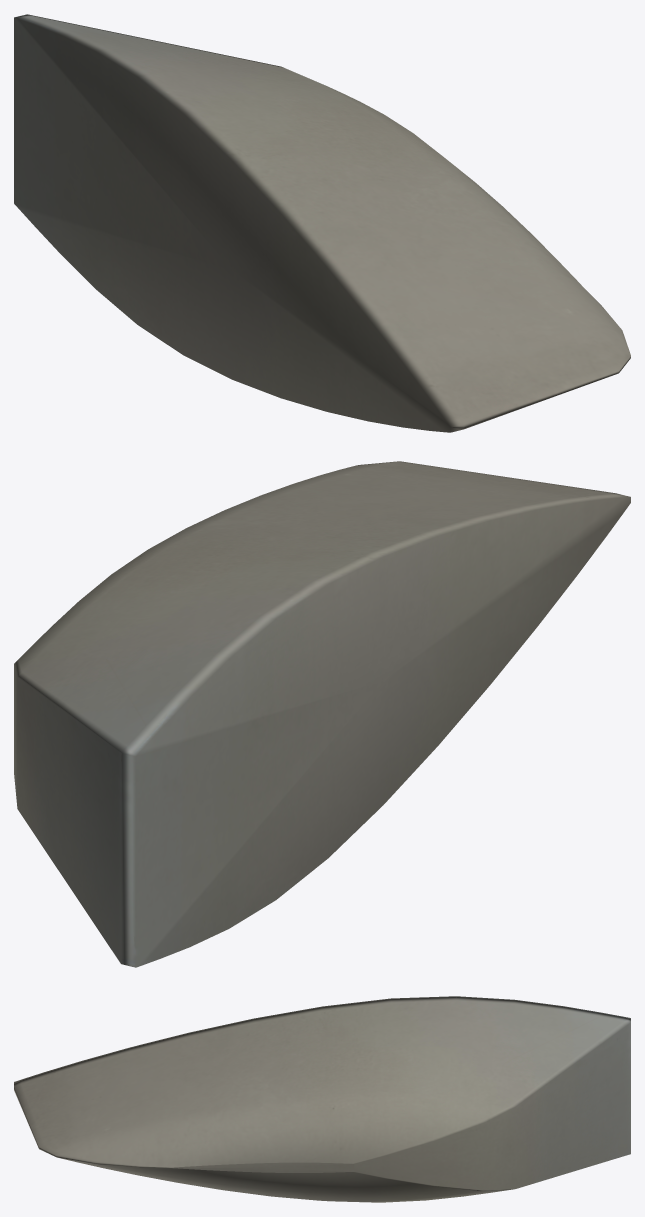
The model's file is SM_Nacelle_G.glb.
3 renders of one model, top to bottom at view 1: azimuth 30°, elevation 25°; view 2: azimuth 150°, elevation 25°; view 3: azimuth 270°, elevation 25°, orthographic. The views are drawn at different scales.
Size of the model in its own units: 0.6447 by 0.6266 by 2.
1 material, 1 textured.
